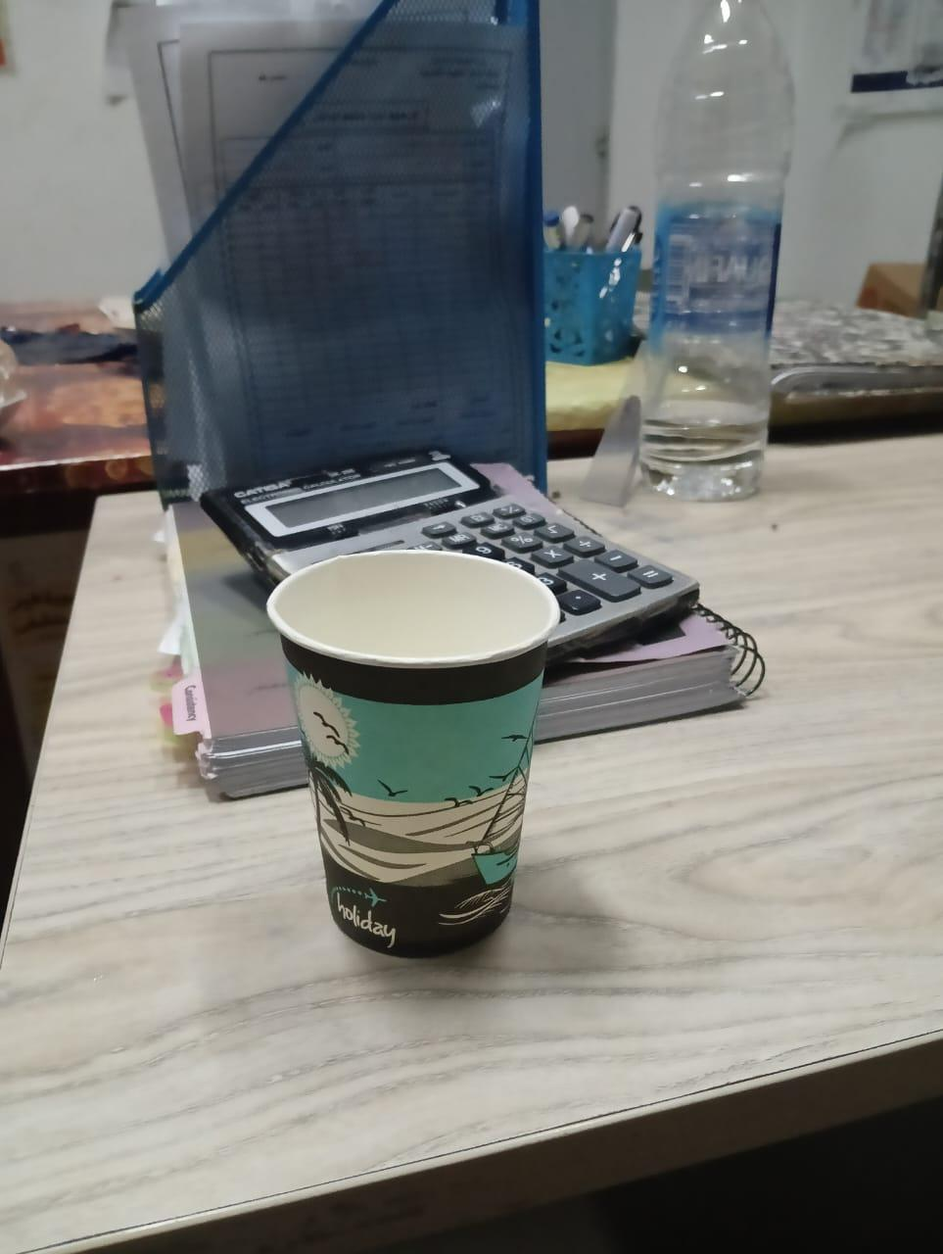cup: (267, 552, 558, 955)
